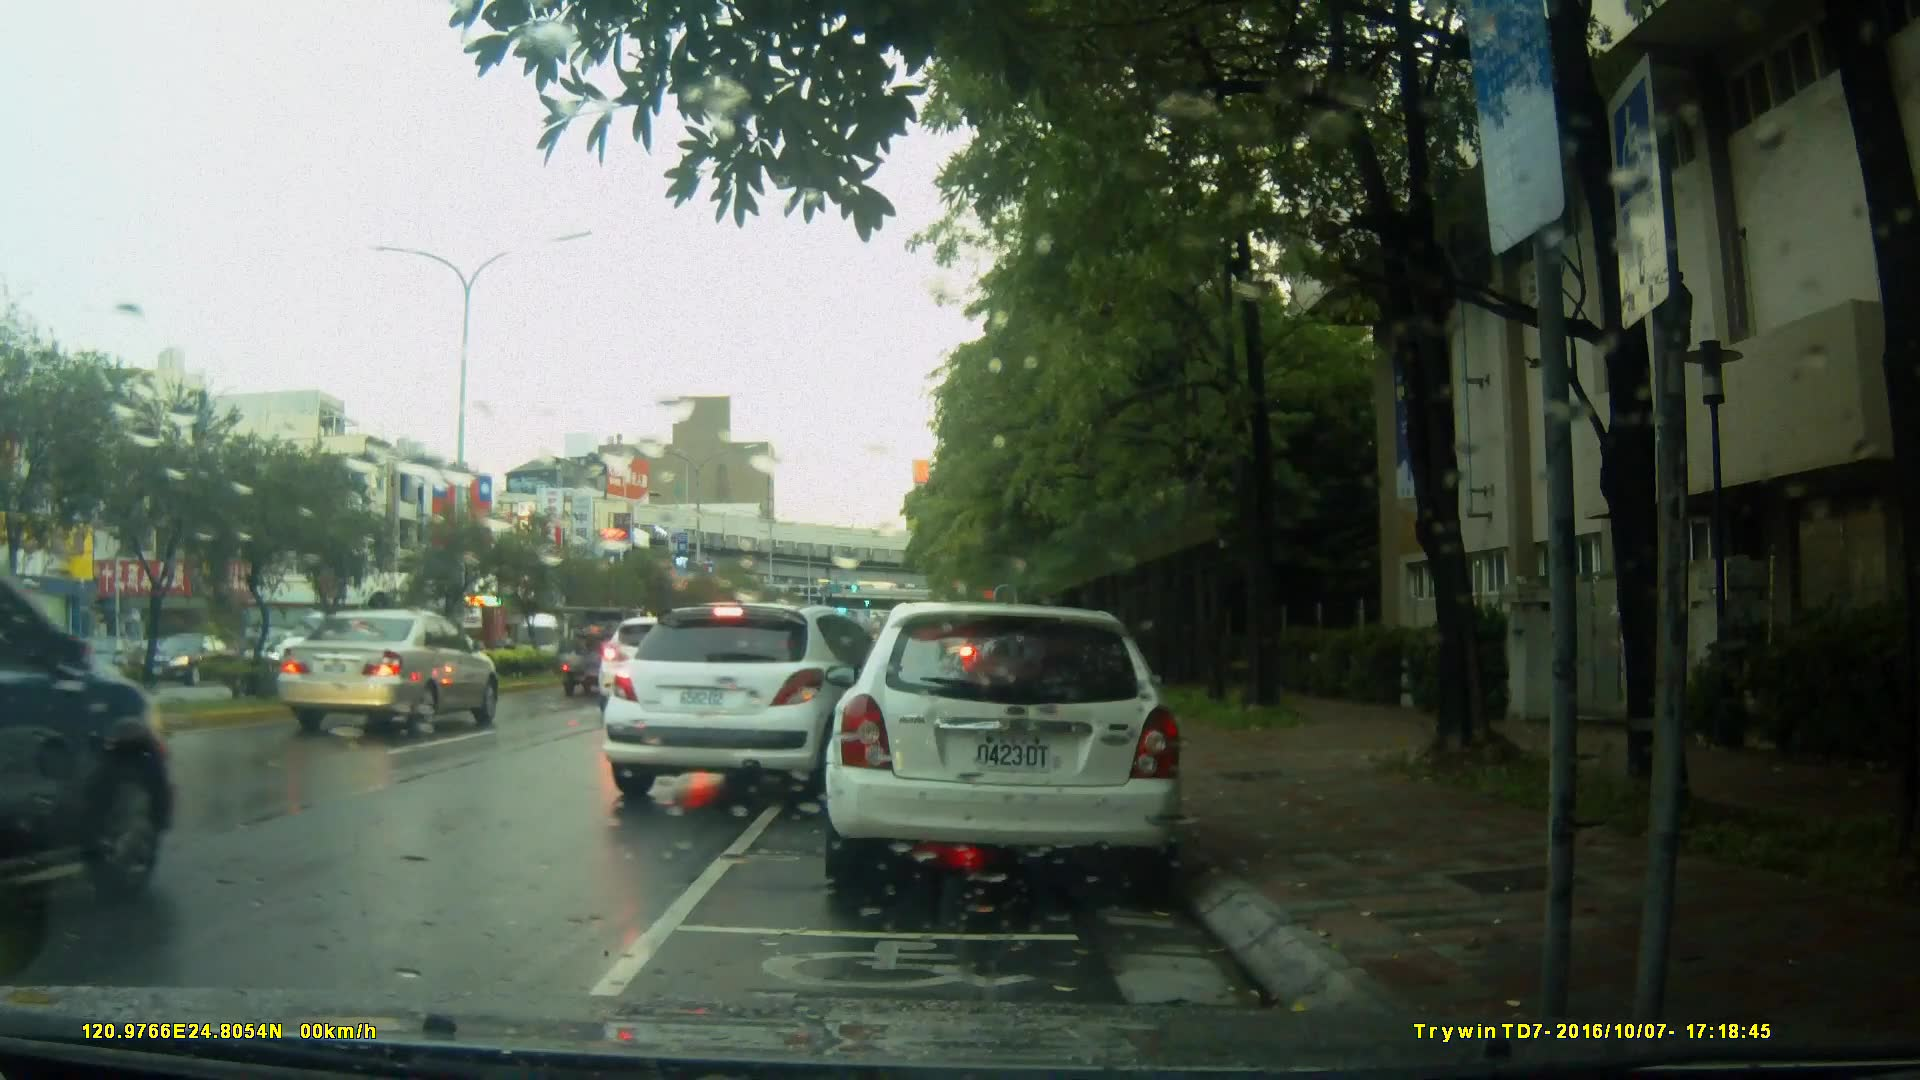vehicle: (820, 603, 1188, 898), (1, 526, 178, 923), (608, 600, 923, 804), (276, 611, 502, 735), (135, 634, 239, 688)
